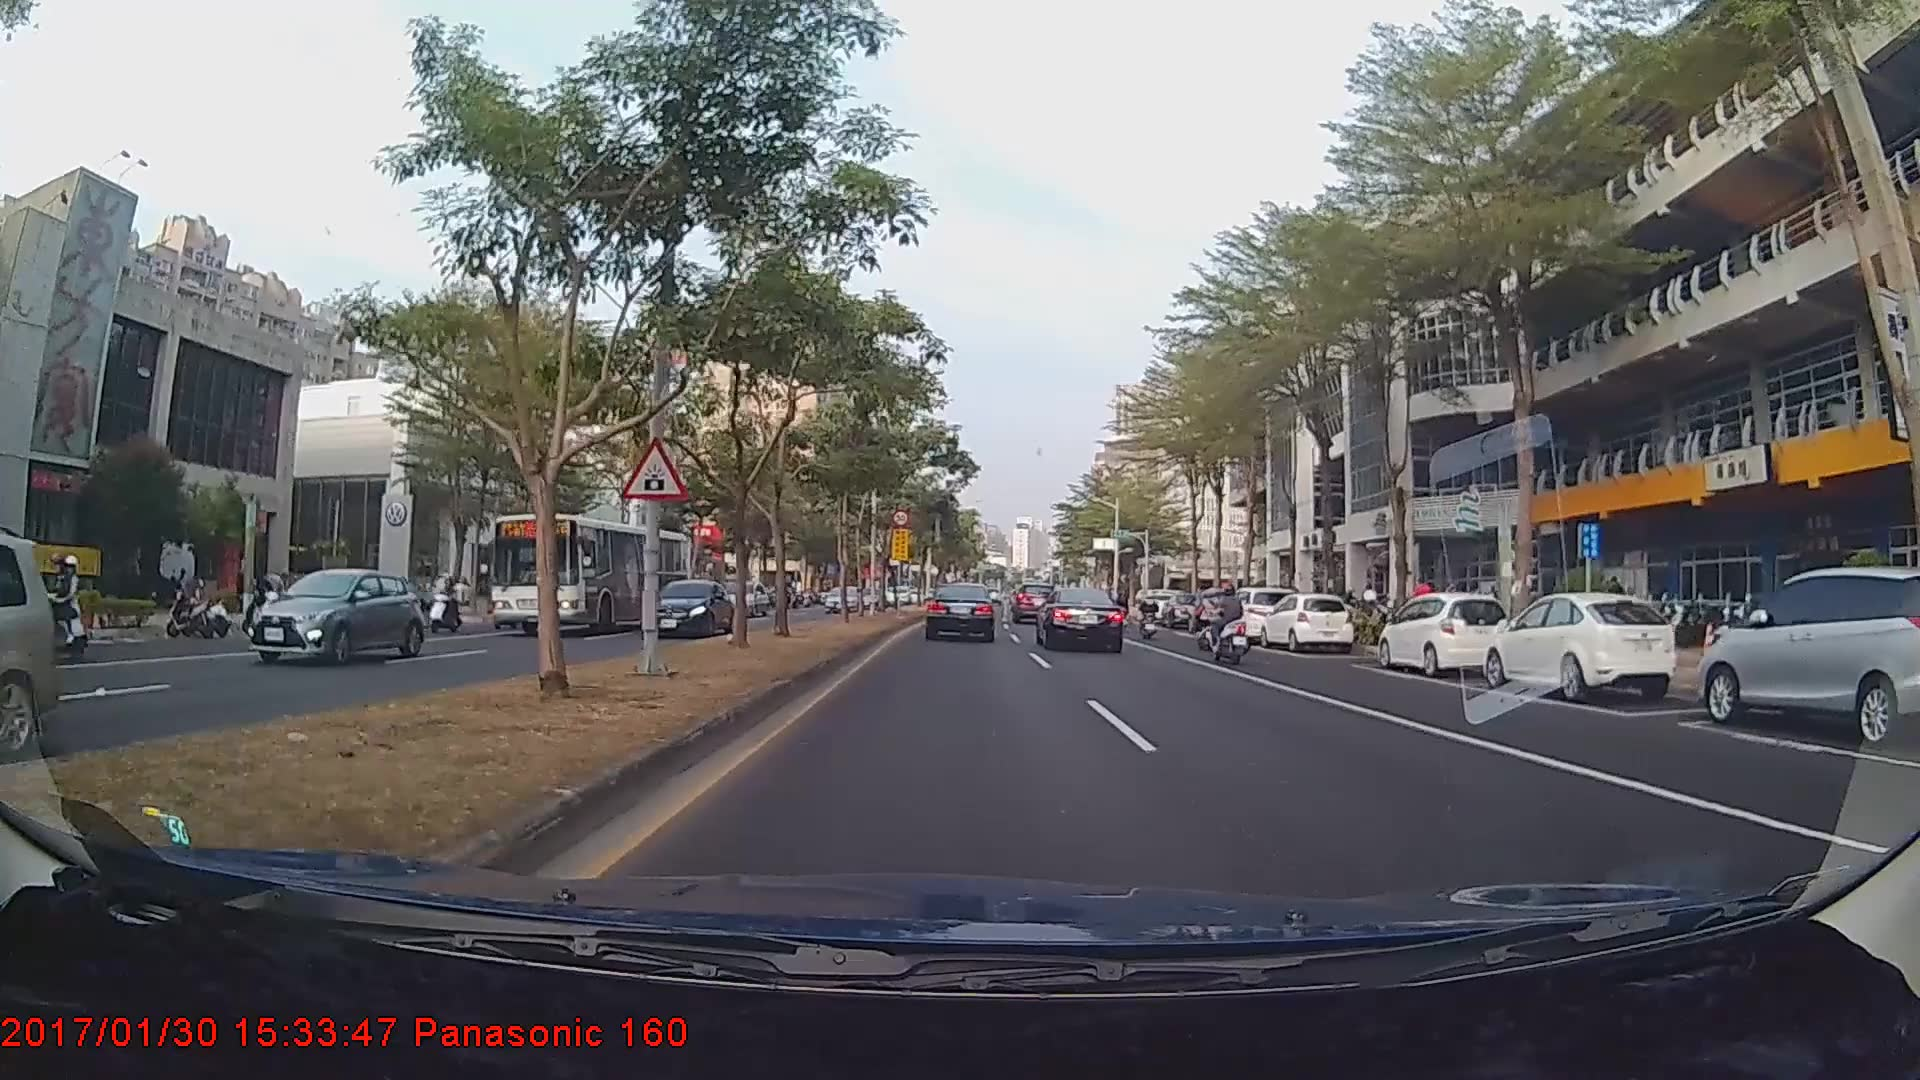rider: (1204, 582, 1258, 669), (425, 576, 472, 637), (1196, 589, 1239, 652), (1139, 586, 1165, 642)
vehicle: (1697, 566, 1920, 748), (490, 513, 692, 638), (1481, 592, 1676, 704), (244, 568, 425, 665), (1380, 593, 1514, 678), (1036, 584, 1126, 654), (1258, 591, 1352, 653), (644, 577, 734, 637), (1210, 583, 1298, 639), (924, 581, 997, 643), (715, 582, 769, 619), (1011, 583, 1058, 623), (820, 583, 863, 612)
